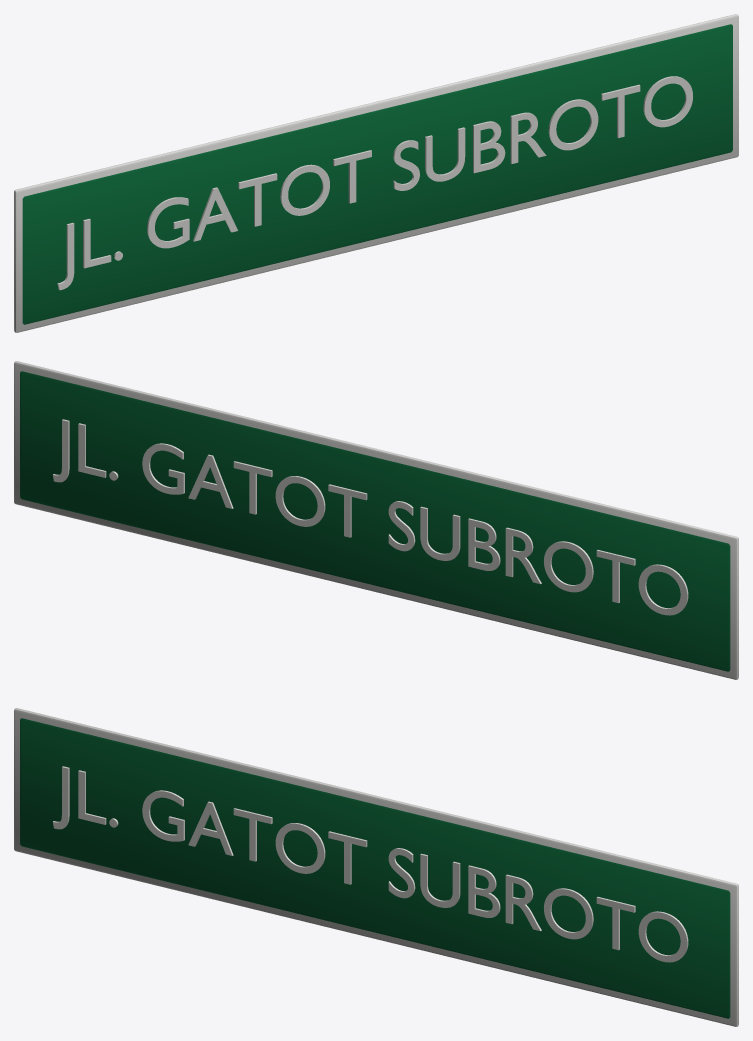
Rendered from StreetName_gatsu.fbx.
3 renders of one model, top to bottom at view 1: azimuth 30°, elevation 25°; view 2: azimuth 150°, elevation 25°; view 3: azimuth 330°, elevation 25°, orthographic.
Parts seen in each view (by area): view 1: StreetName_gatsu_Mesh; view 2: StreetName_gatsu_Mesh; view 3: StreetName_gatsu_Mesh.
Part boxes in pixels (bbox=[...]): StreetName_gatsu_Mesh: bbox=[14, 14, 738, 332]; StreetName_gatsu_Mesh: bbox=[14, 361, 738, 679]; StreetName_gatsu_Mesh: bbox=[14, 708, 738, 1026].
Size of the model in its own units: 1.85 by 0.35 by 0.026.
